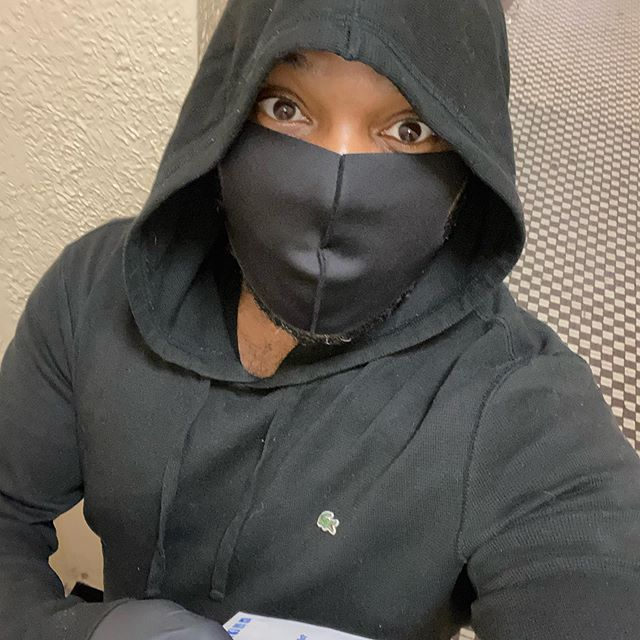homemade: (219, 118, 459, 347)
